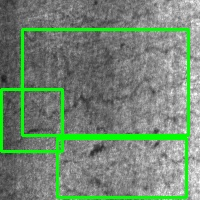crazing: (22, 29, 188, 135), (57, 138, 186, 197), (1, 89, 62, 151)
